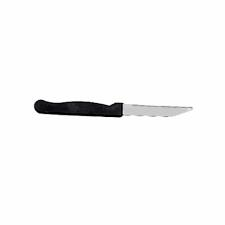Knife: (33, 98, 193, 117)
